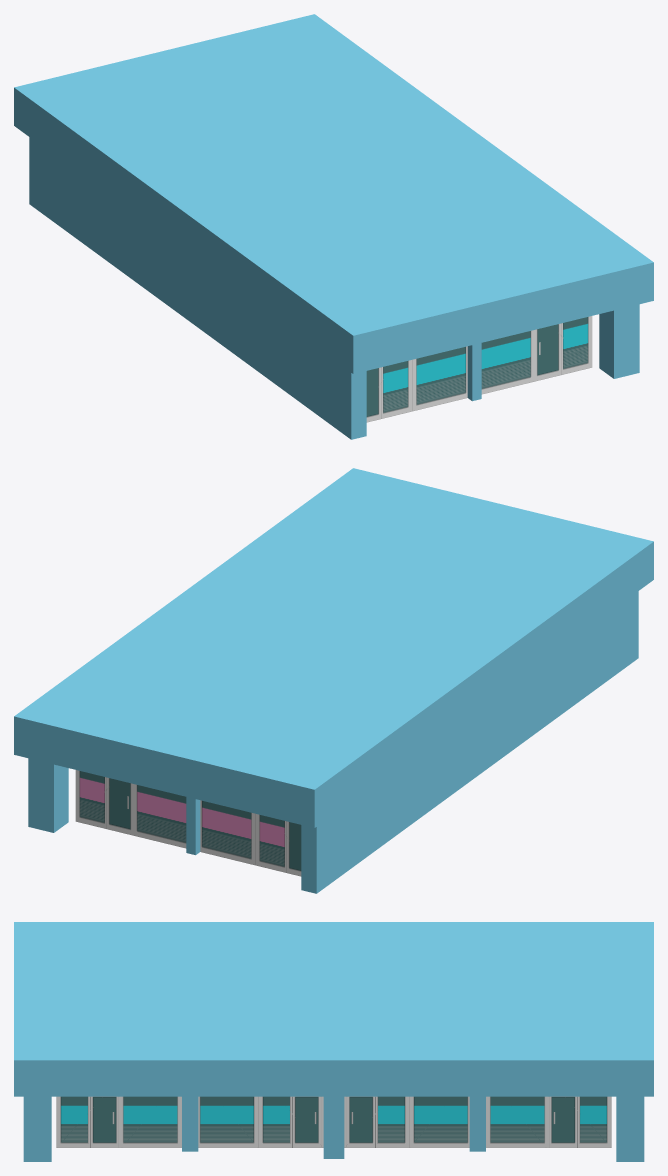
Rendered from Town_Bld-Lrg_BaseA-Corner.FBX.
3 views of the same model, one above another, from view 1: azimuth 30°, elevation 25°; view 2: azimuth 150°, elevation 25°; view 3: azimuth 270°, elevation 25° (orthographic). The views are drawn at different scales.
Visible parts, largest first — view 1: Town_Bld-Lrg_BaseA-Corner; view 2: Town_Bld-Lrg_BaseA-Corner; view 3: Town_Bld-Lrg_BaseA-Corner.
Part boxes in pixels (x1,y1,x2,y2): Town_Bld-Lrg_BaseA-Corner: (14, 14, 653, 439); Town_Bld-Lrg_BaseA-Corner: (14, 468, 653, 893); Town_Bld-Lrg_BaseA-Corner: (14, 922, 653, 1161).
Size of the model in its own units: 647 by 230 by 1264.
